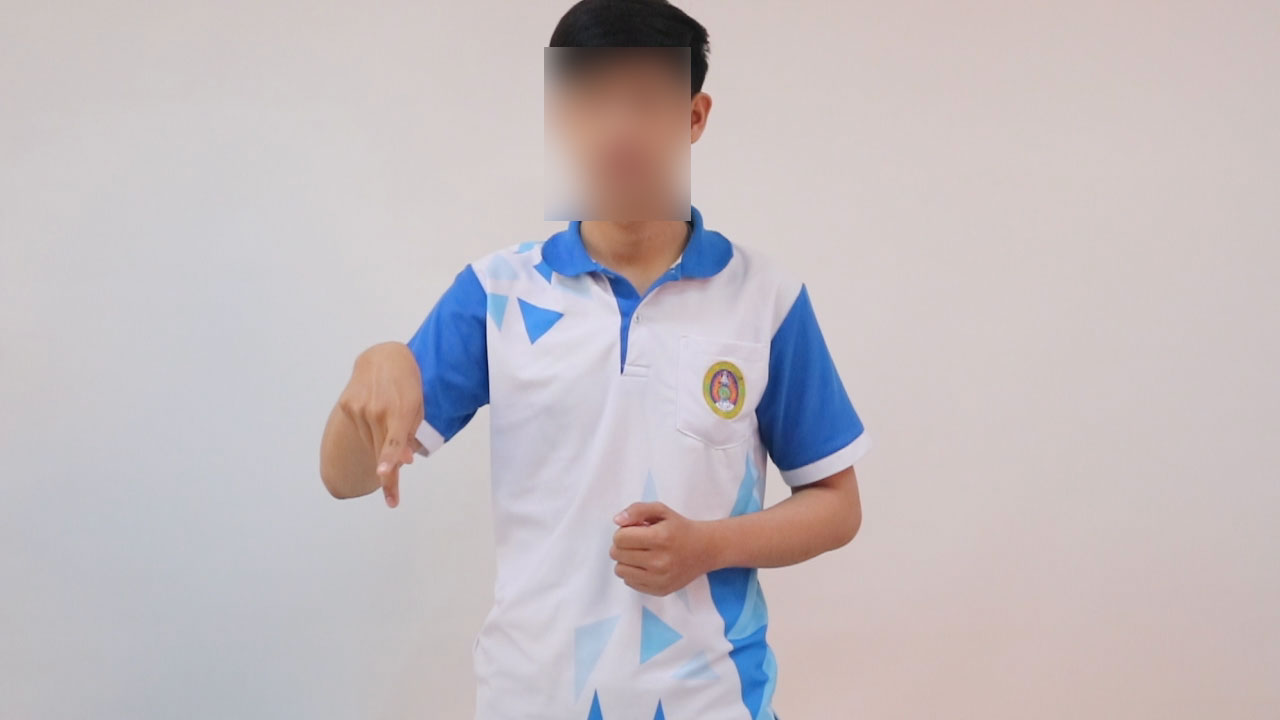por: (330, 338, 439, 511)
